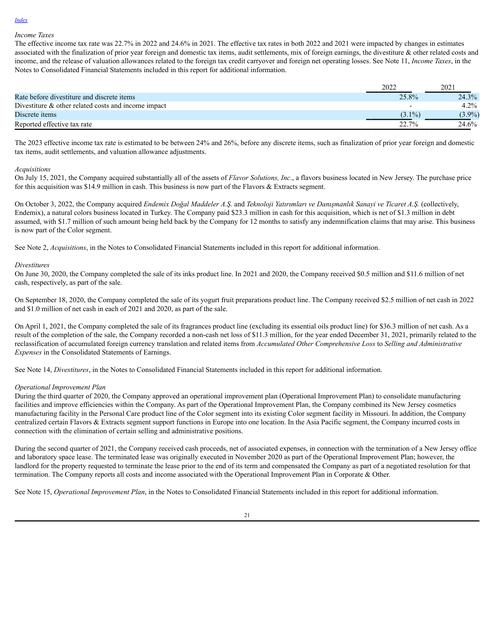box: (13, 84, 482, 132)
